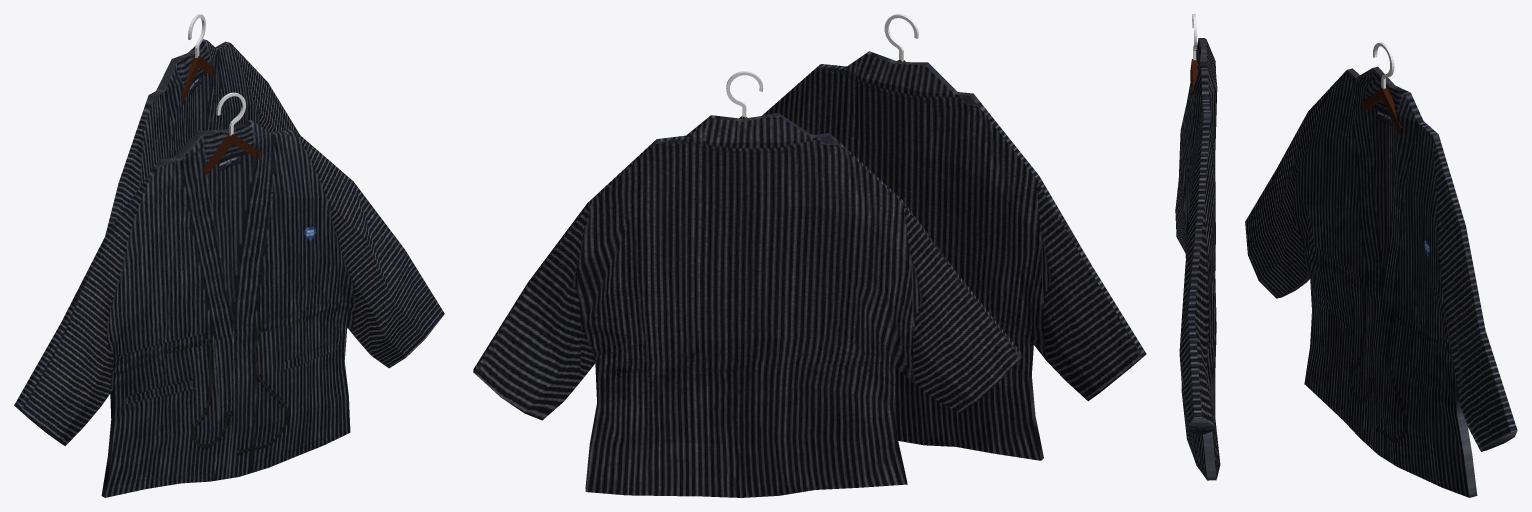
The model's file is kimonowabash.glb.
The picture shows the model from 3 angles, left to right: view 1: azimuth 30°, elevation 25°; view 2: azimuth 150°, elevation 25°; view 3: azimuth 270°, elevation 25°; orthographic projection. The views are drawn at different scales.
Visible parts, largest first — view 1: Plane.051; view 2: Plane.051; view 3: Plane.051.
Boxes of the visible parts, x1=… form: Plane.051: x1=14, y1=14, x2=444, y2=497; Plane.051: x1=473, y1=14, x2=1146, y2=497; Plane.051: x1=1175, y1=14, x2=1517, y2=497.
Bounding box in the file's own units: 0.4279 × 0.3396 × 0.2585.
Materials: 3 (3 with a texture image).
